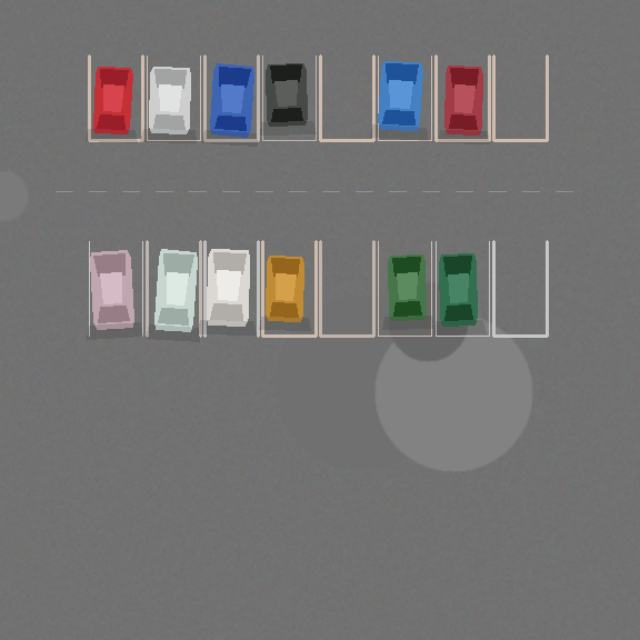space-empty: (493, 241, 547, 336), (320, 241, 373, 336), (493, 56, 547, 140), (320, 56, 373, 140)
space-occupied: (204, 241, 258, 336), (262, 241, 316, 336), (89, 241, 142, 336), (147, 241, 200, 336), (378, 241, 431, 336), (436, 241, 489, 336), (204, 56, 258, 140), (262, 56, 316, 140), (89, 56, 142, 140), (147, 56, 200, 140), (378, 56, 431, 140), (436, 56, 489, 140)
